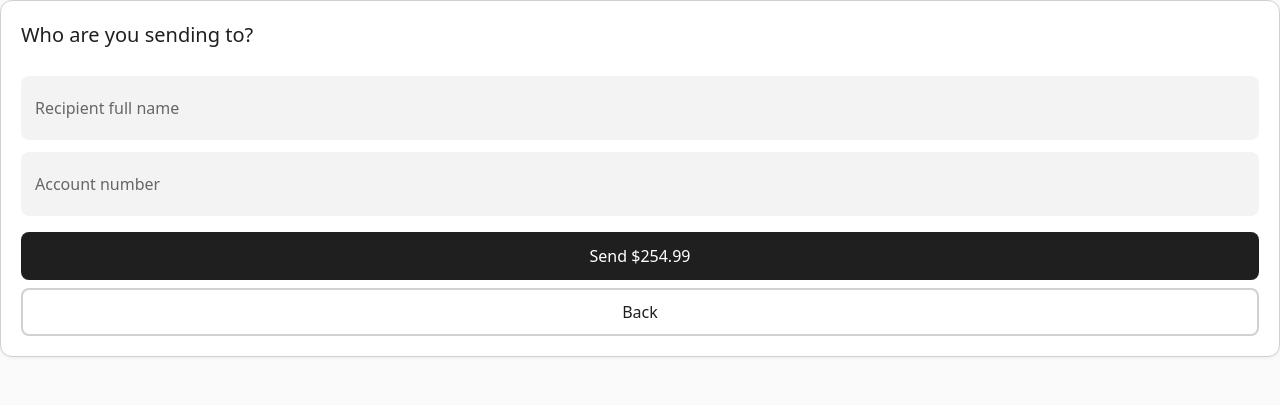
Test: RecipientForm › shows an error when fields are empty
Click the button "Send $254.99" at point(640, 256), box left=21, top=232, right=1259, bottom=280
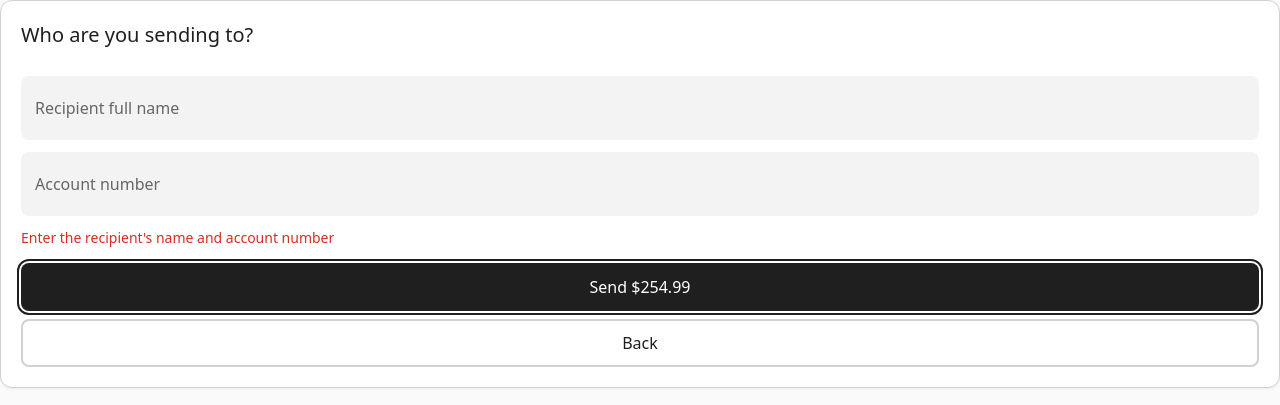
Now the message shows "recipient's name and account number", box left=21, top=228, right=334, bottom=247
